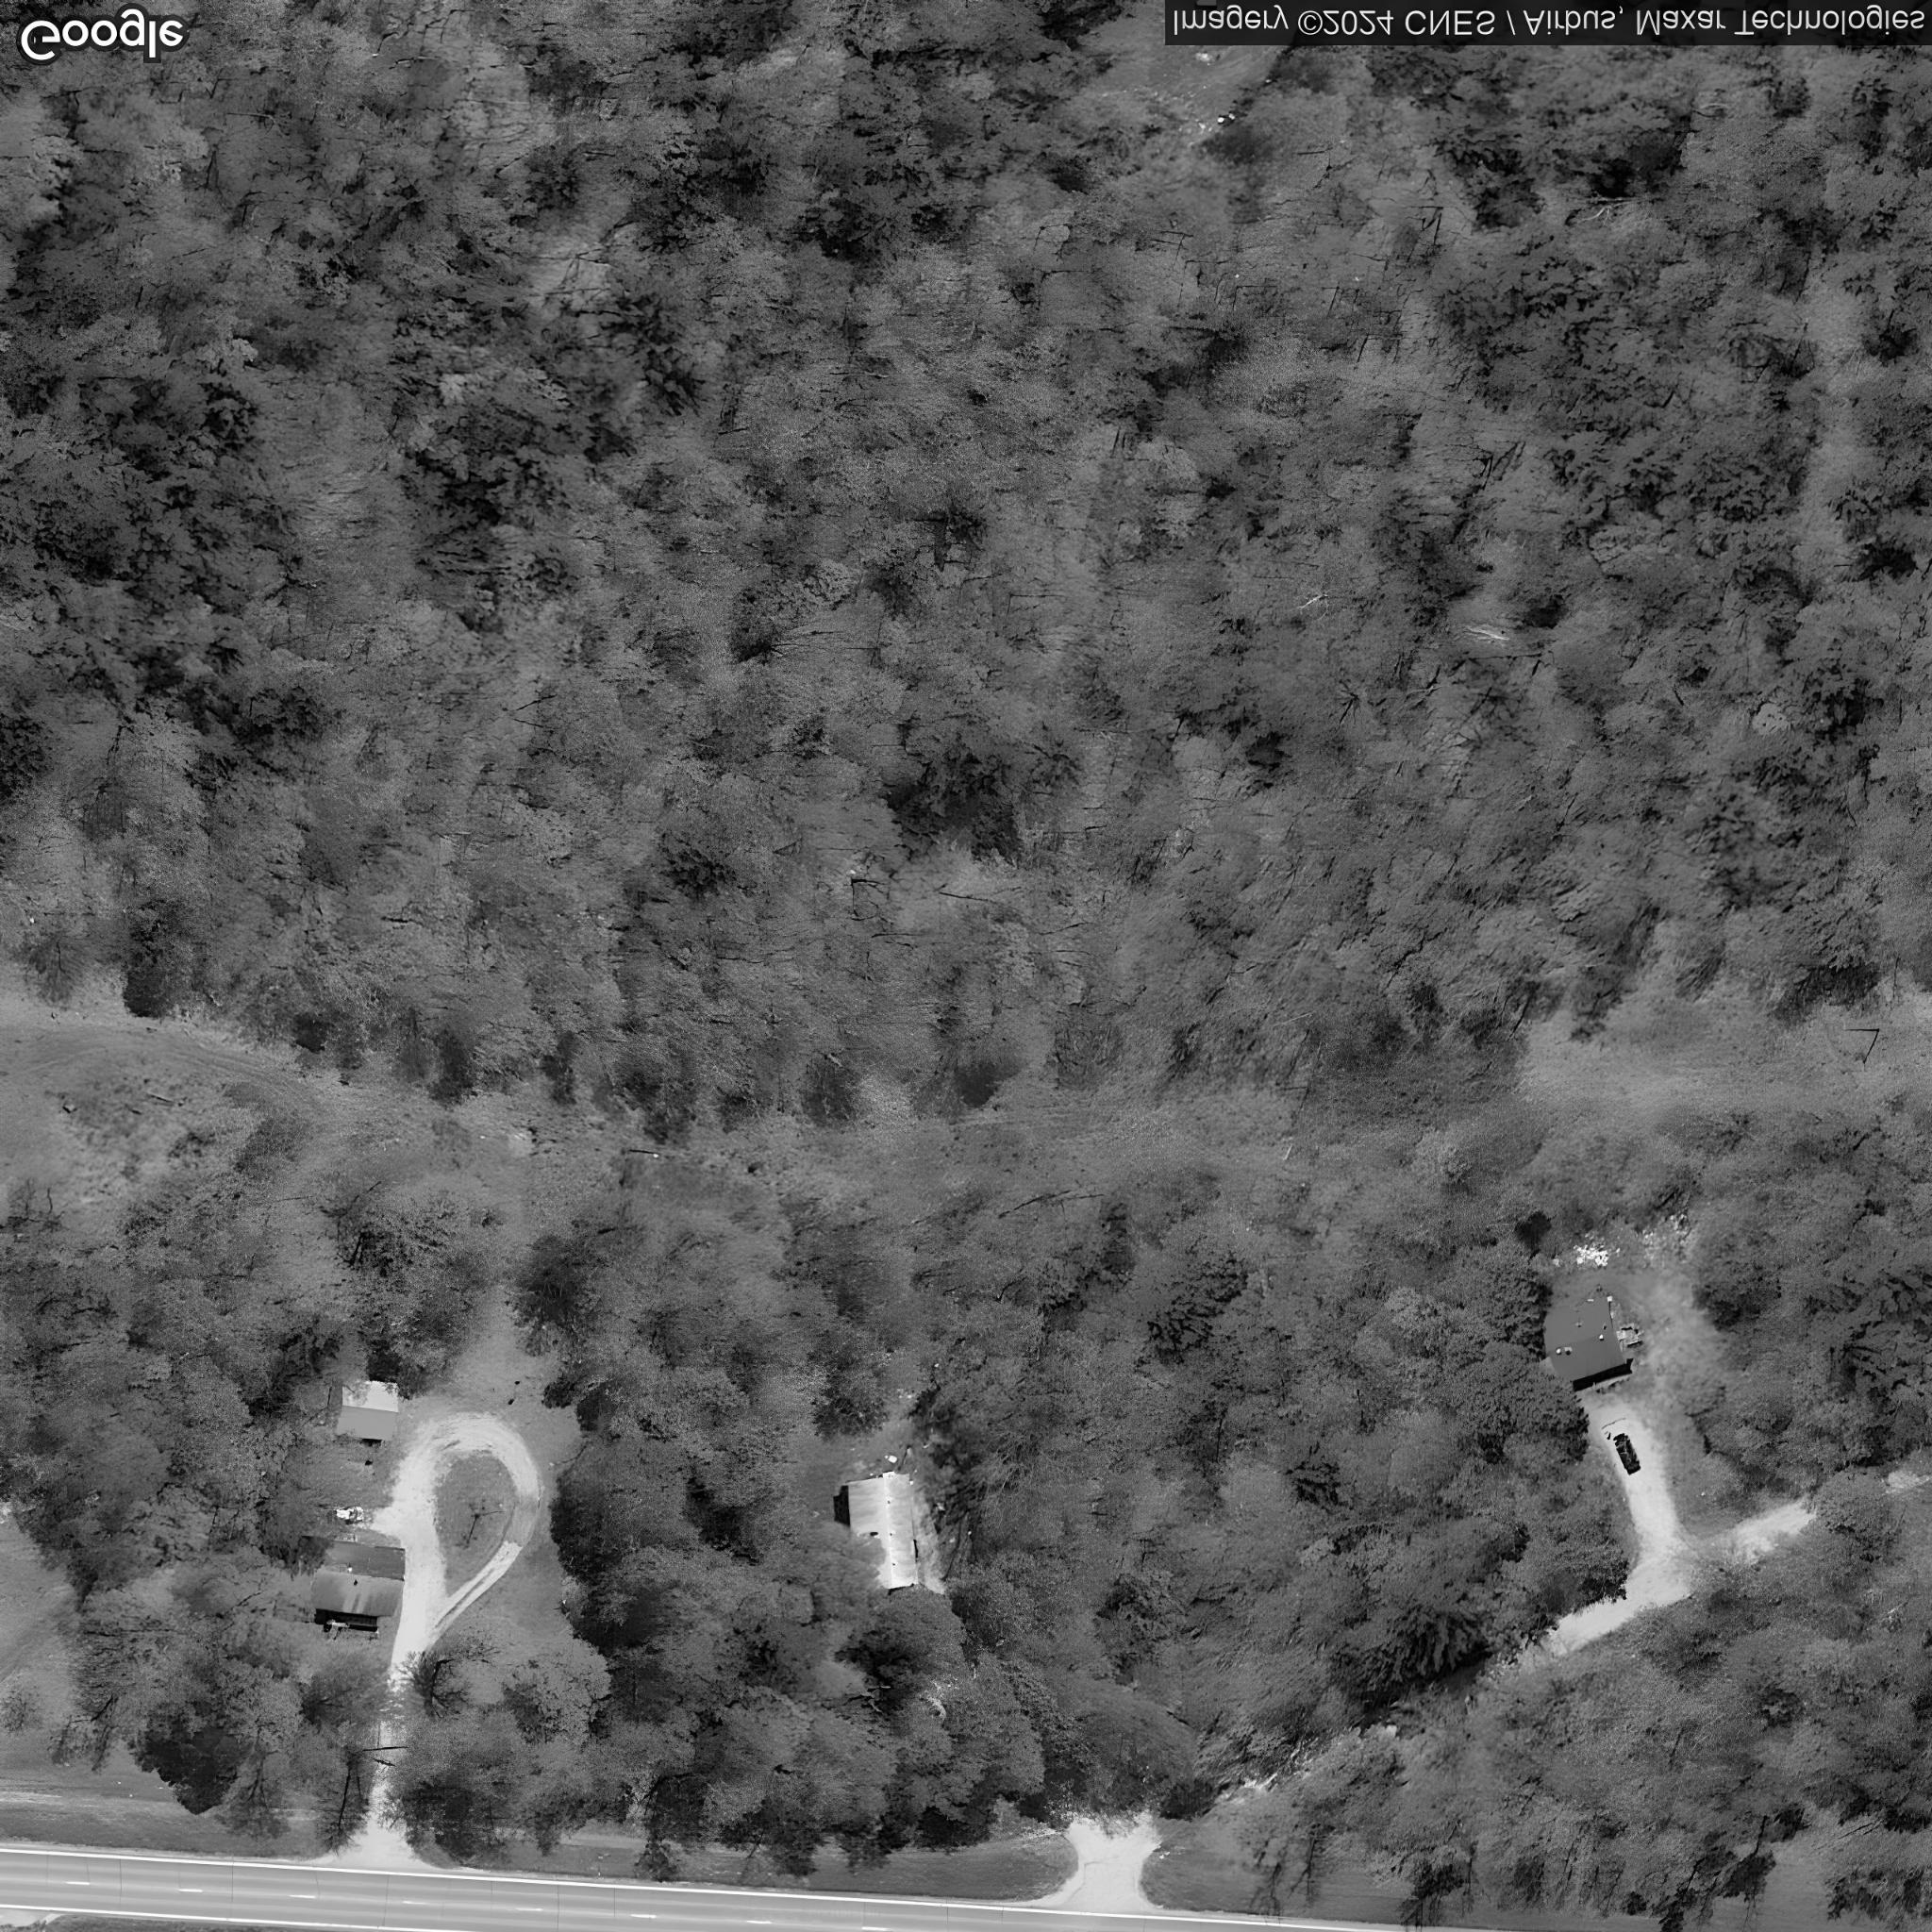Garage: (326, 1380, 400, 1442)
House: (290, 1536, 409, 1617), (844, 1472, 918, 1591), (1546, 1293, 1638, 1385)
